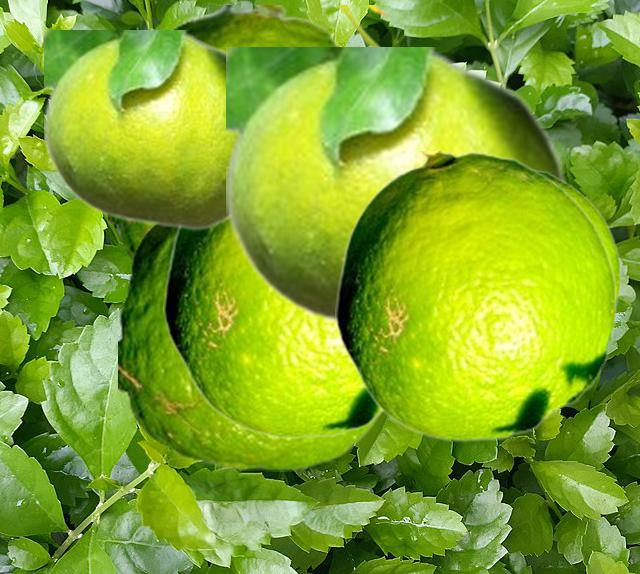dalandan: (226, 47, 567, 330), (335, 151, 616, 441), (108, 5, 405, 264), (118, 226, 384, 470), (163, 222, 383, 438), (44, 30, 234, 230), (531, 166, 620, 307)
